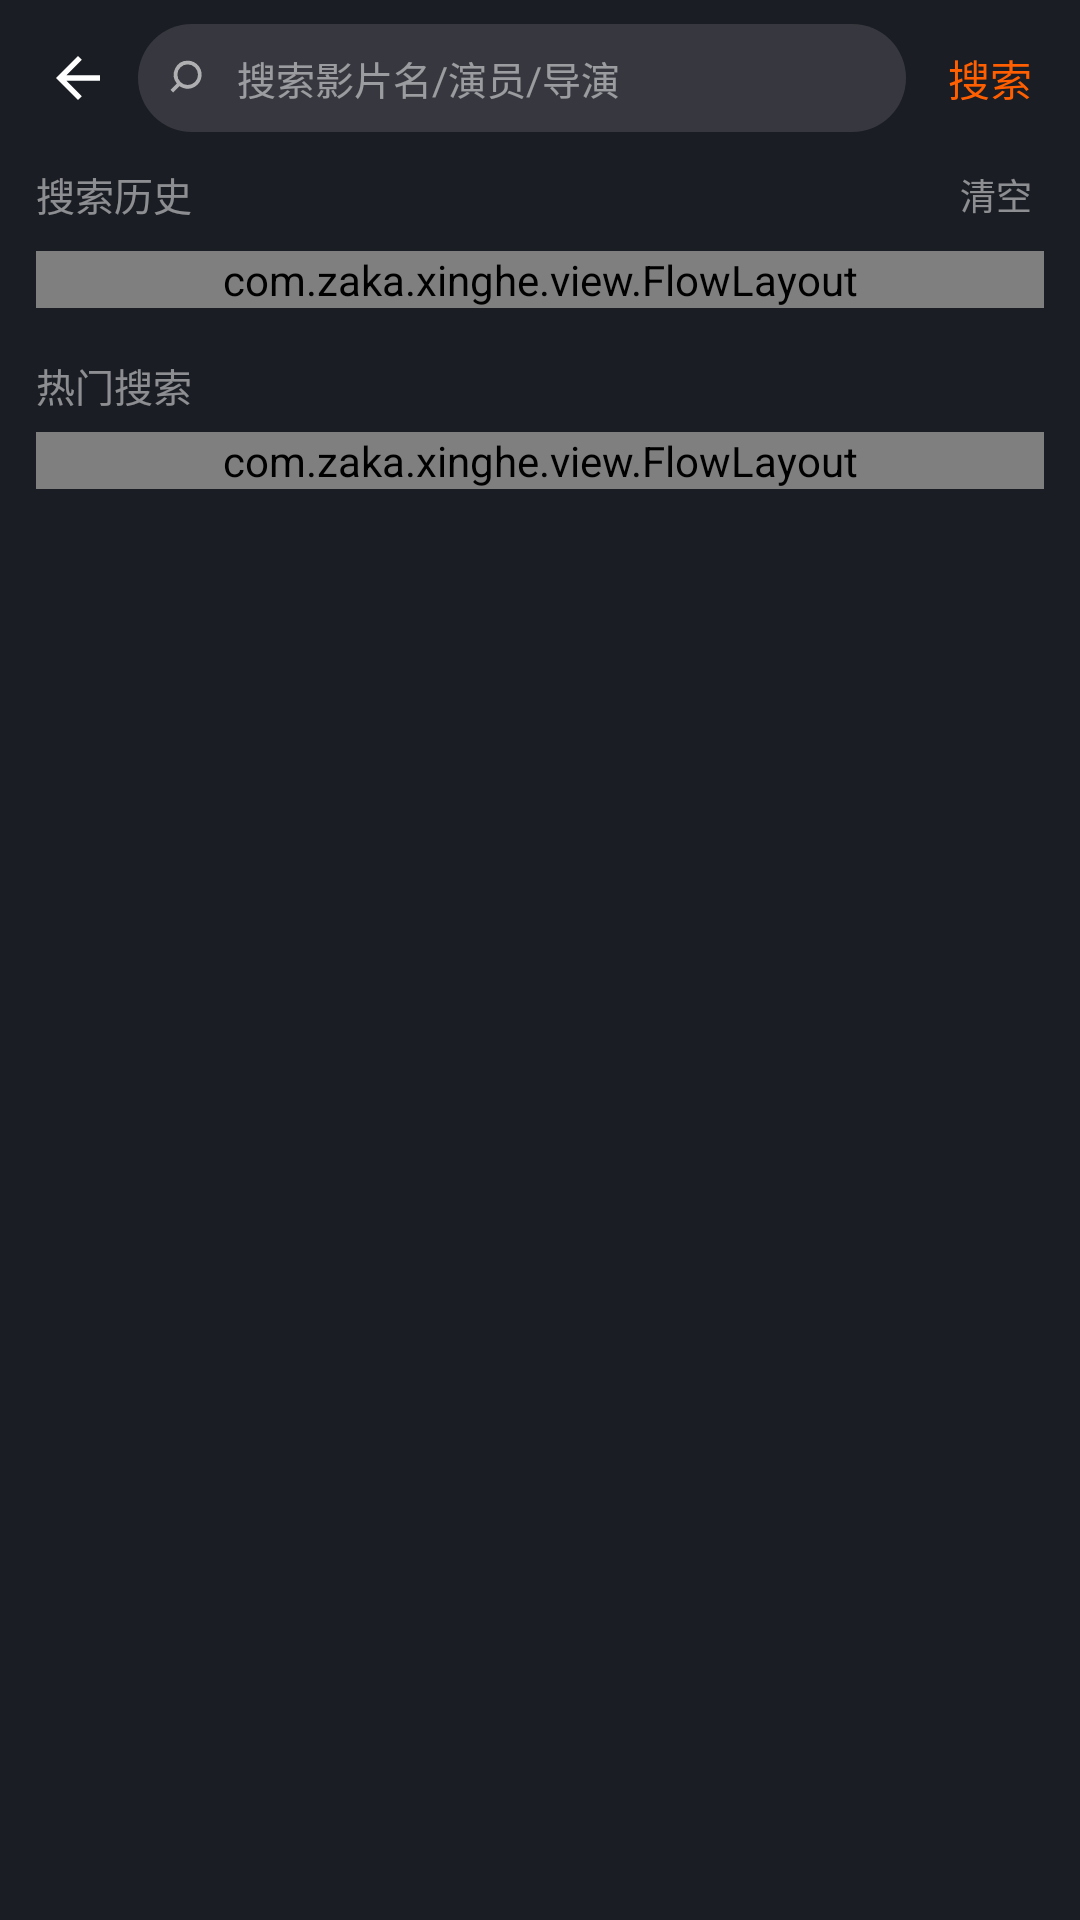

Screen size 1080×1920. Icon name, then its box in pixels as box=[x1, y1, x2, y2]:
back: box=[56, 56, 100, 100]
search: box=[171, 60, 202, 92]
